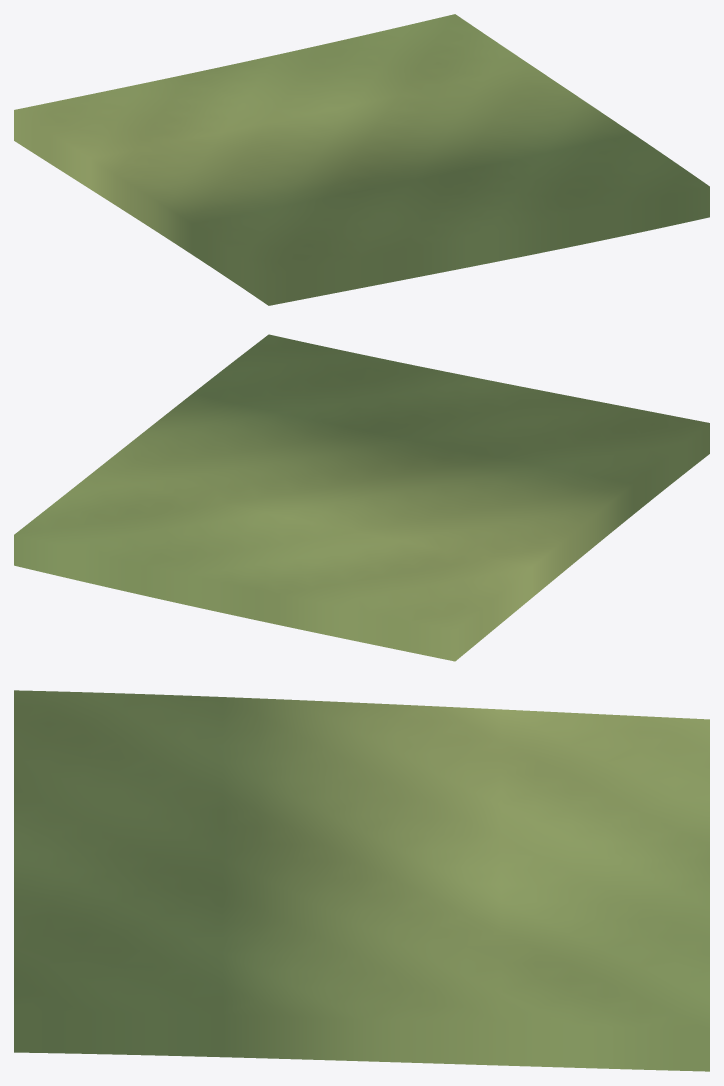
3 views of the same model, one above another, from view 1: azimuth 30°, elevation 25°; view 2: azimuth 150°, elevation 25°; view 3: azimuth 270°, elevation 25° (orthographic). The views are drawn at different scales.
Parts seen in each view (by area): view 1: terrain; view 2: terrain; view 3: terrain.
Boxes of the visible parts, box(x1,y1,x2,y2) form: terrain: box(14, 14, 709, 305); terrain: box(14, 334, 709, 661); terrain: box(14, 690, 709, 1071).
Size of the model in its own units: 30 by 4.14 by 30.
